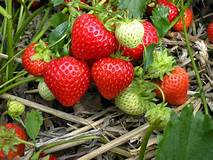Fresa: (41, 54, 93, 110), (69, 11, 119, 64), (90, 54, 137, 102), (151, 60, 190, 108), (21, 38, 59, 79), (1, 119, 32, 160)
